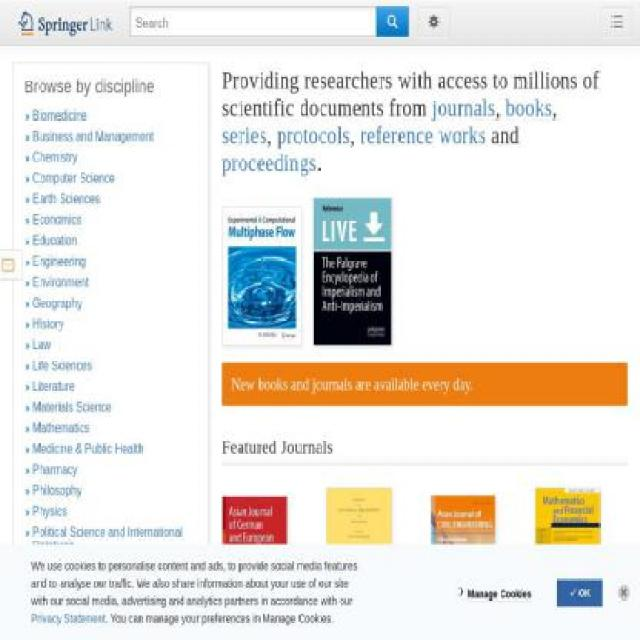button: (312, 195, 393, 363), (220, 204, 302, 362), (326, 487, 391, 619), (535, 487, 599, 619), (430, 494, 495, 612), (222, 494, 286, 612), (22, 522, 200, 556), (22, 106, 200, 126), (22, 127, 200, 147), (22, 148, 200, 168), (22, 168, 200, 188), (22, 189, 200, 209), (22, 210, 200, 230), (22, 231, 200, 251), (22, 252, 200, 272), (22, 272, 200, 292), (22, 293, 200, 313), (22, 314, 200, 334), (22, 334, 200, 354), (22, 356, 200, 376), (22, 377, 200, 397), (22, 398, 200, 418), (22, 418, 200, 438), (22, 439, 200, 459), (22, 460, 200, 480), (22, 481, 200, 501), (22, 502, 200, 522), (22, 557, 200, 577), (22, 578, 200, 598), (22, 598, 200, 618), (19, 10, 116, 44), (417, 6, 451, 37), (467, 586, 531, 602), (601, 6, 633, 37), (0, 250, 23, 279)
field: (130, 7, 376, 36), (376, 6, 410, 37)
